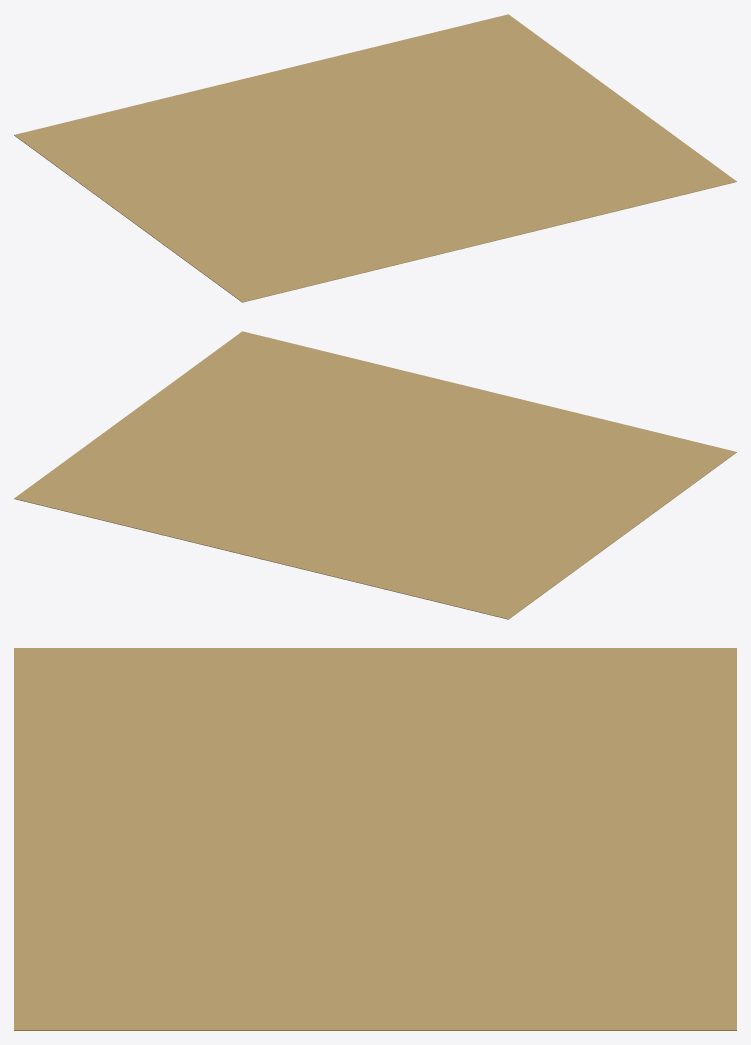
The model's file is paper.glb.
3 views of the same model, one above another, from view 1: azimuth 30°, elevation 25°; view 2: azimuth 150°, elevation 25°; view 3: azimuth 270°, elevation 25° (orthographic). The views are drawn at different scales.
Visible parts, largest first — view 1: CreasedUncutSheet, FlatUncutSheet; view 2: FlatUncutSheet, CreasedUncutSheet; view 3: CreasedUncutSheet, FlatUncutSheet.
Part boxes in pixels (x1,y1,x2,y2): CreasedUncutSheet: (14, 14, 735, 302); FlatUncutSheet: (14, 14, 736, 302); FlatUncutSheet: (14, 331, 736, 619); CreasedUncutSheet: (15, 332, 735, 618); CreasedUncutSheet: (14, 648, 736, 1030); FlatUncutSheet: (14, 648, 736, 1030).
Size of the model in its own units: 0.5 by 0.00065 by 0.4.
